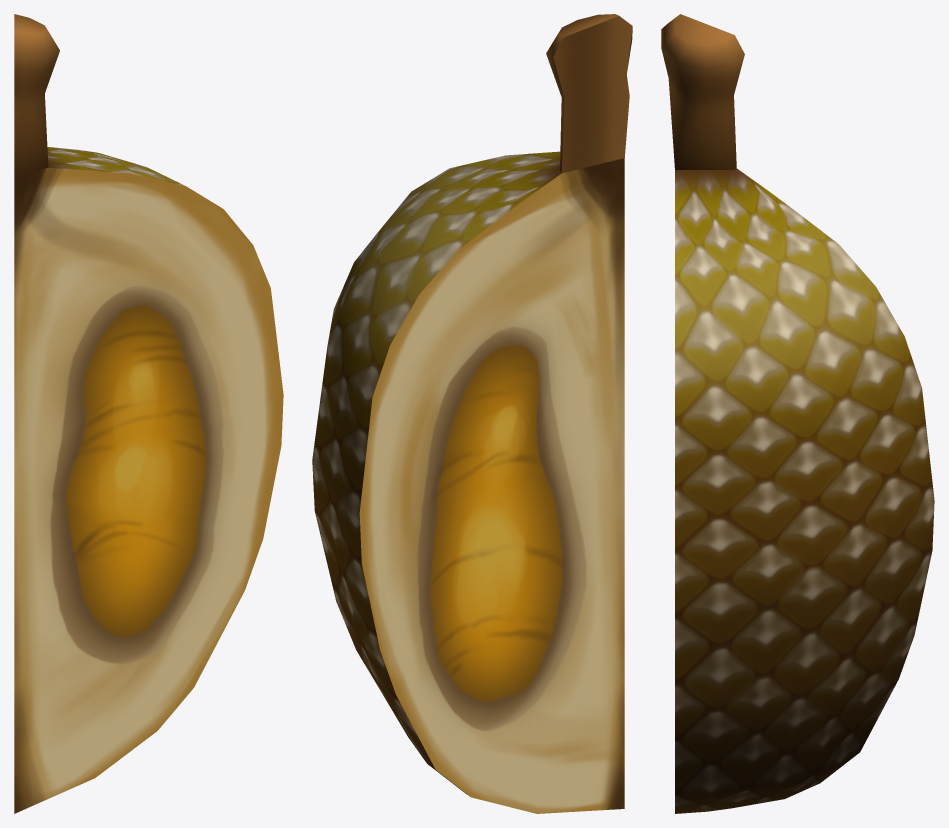
File: Durian_Quarter.fbx
3 renders of one model, left to right at view 1: azimuth 30°, elevation 25°; view 2: azimuth 150°, elevation 25°; view 3: azimuth 270°, elevation 25°, orthographic. The views are drawn at different scales.
Parts seen in each view (by area): view 1: Durian_Quarter; view 2: Durian_Quarter; view 3: Durian_Quarter.
Part boxes in pixels (x1,y1,x2,y2): Durian_Quarter: (14,14,283,813); Durian_Quarter: (312,14,632,813); Durian_Quarter: (661,14,934,813).
Bounding box in the file's own units: 40.93 × 111 × 35.49.
